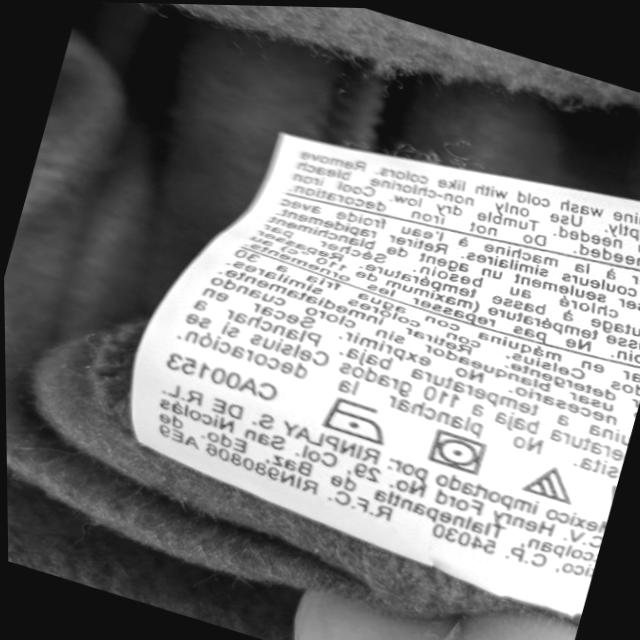iron_low: (317, 396, 388, 448)
non_chlorine_bleach: (522, 460, 575, 504)
tumble_dry_low: (427, 430, 493, 474)
